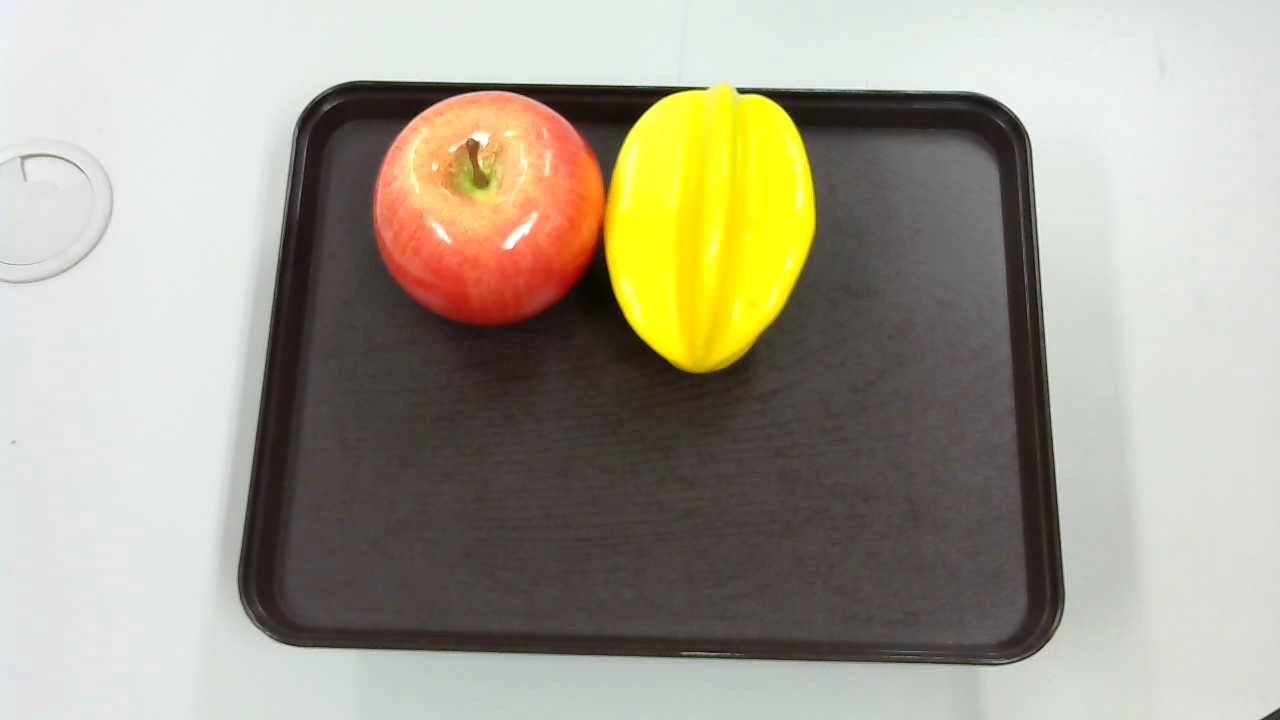red apple: (371, 91, 603, 324)
star fruit: (606, 76, 819, 385)
